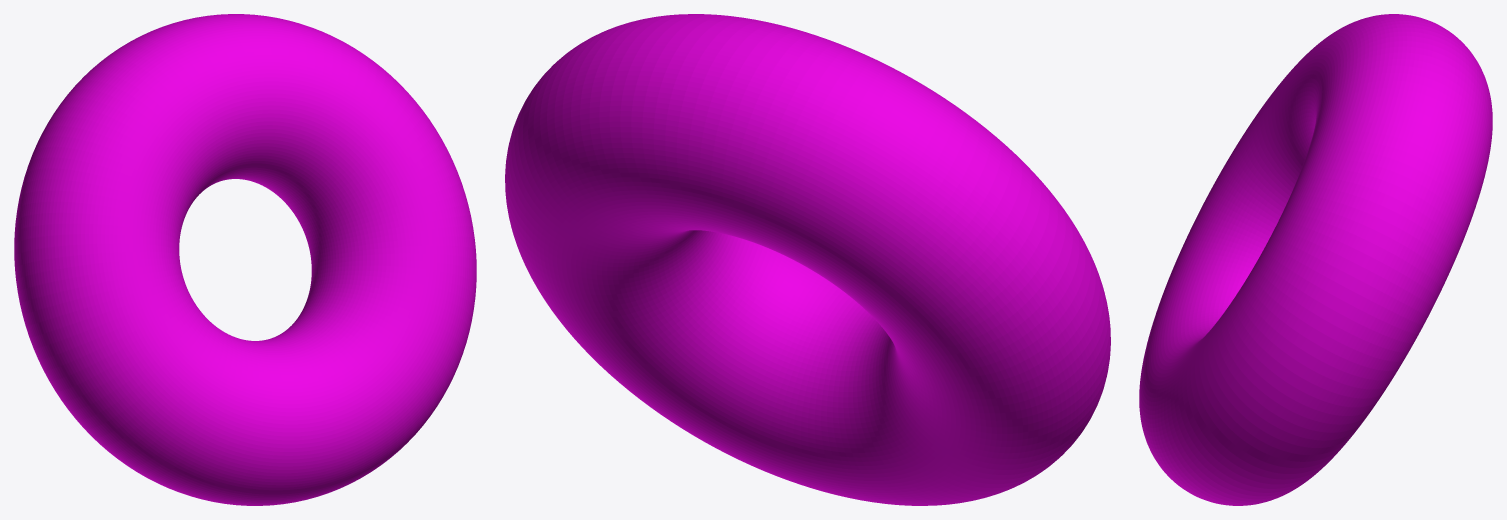
3 views of the same model, side by side, from view 1: azimuth 30°, elevation 25°; view 2: azimuth 150°, elevation 25°; view 3: azimuth 270°, elevation 25° (orthographic). The views are drawn at different scales.
Visible parts, largest first — view 1: Torus; view 2: Torus; view 3: Torus.
Part boxes in pixels (<box>): Torus: <box>14,14,476,505</box>; Torus: <box>505,14,1110,505</box>; Torus: <box>1139,14,1492,505</box>.
Bounding box in the file's own units: 3 × 2.73 × 2.
